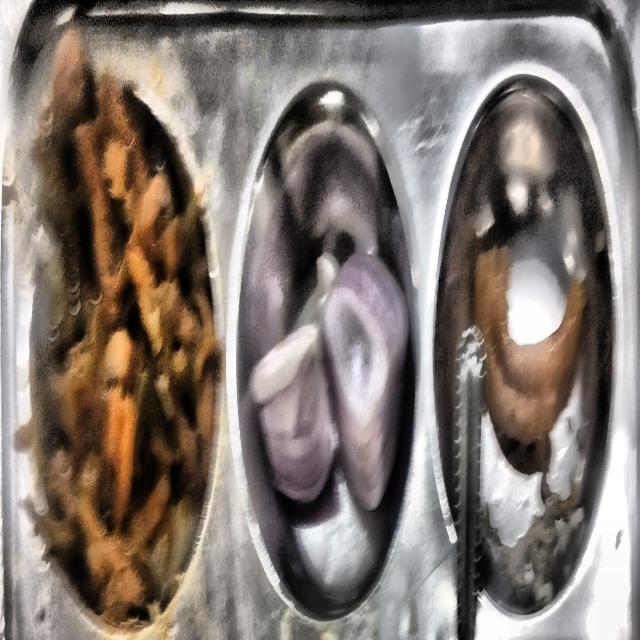Chutney: (475, 247, 586, 469)
Daal-pulse: (17, 24, 222, 633)
Salad-Chukundar: (250, 254, 409, 599)
